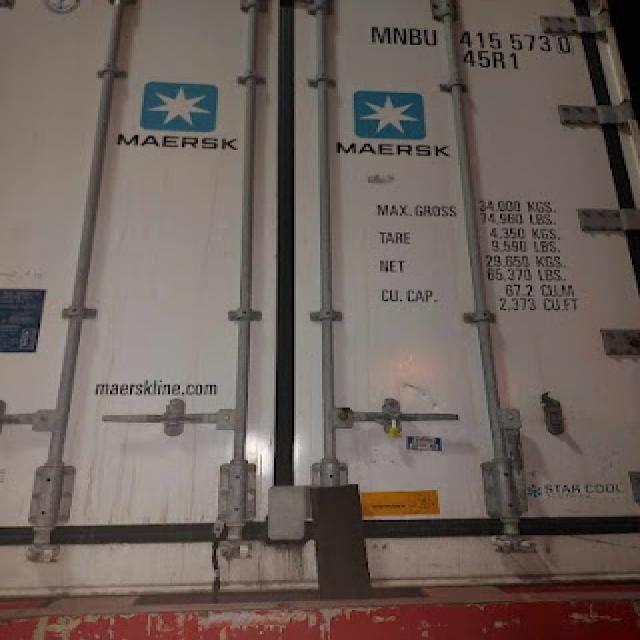ISO: (461, 52, 522, 76)
container_number: (378, 28, 572, 53)
